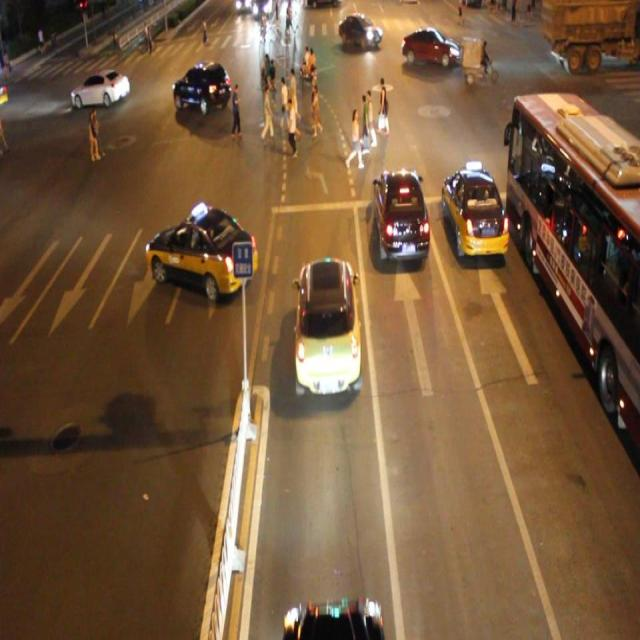car: (146, 203, 257, 297), (294, 256, 362, 396), (441, 170, 508, 260), (372, 167, 429, 264), (284, 594, 385, 640), (173, 62, 230, 115), (398, 26, 458, 70), (68, 69, 129, 106), (337, 13, 380, 52)
van: (504, 93, 640, 454)
